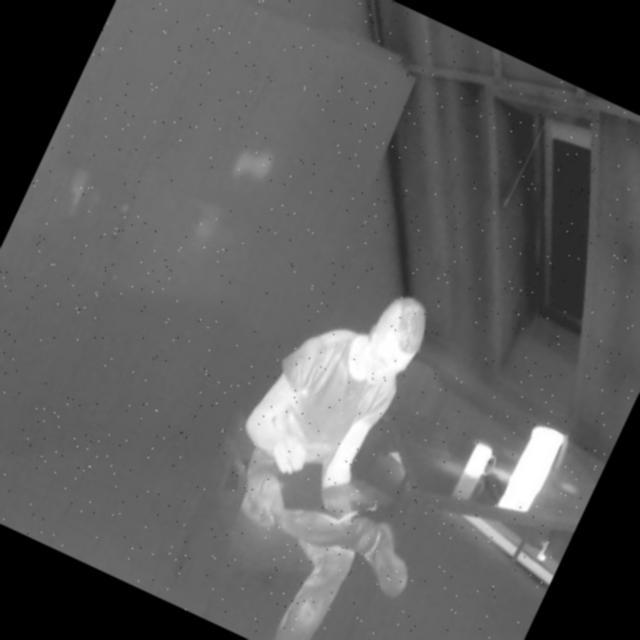person: (160, 250, 525, 640)
